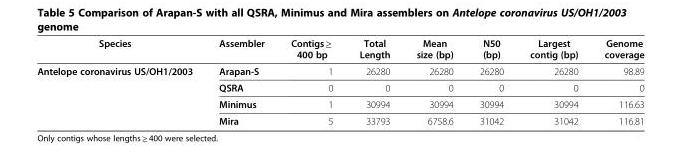table: (36, 36, 643, 126)
table column: (36, 36, 205, 126), (516, 36, 590, 126), (205, 36, 277, 126), (277, 36, 345, 126), (402, 36, 465, 126), (345, 36, 402, 126), (590, 36, 643, 126), (465, 36, 516, 126)
table column header: (36, 36, 643, 62)
table row: (36, 36, 643, 62), (36, 62, 643, 79), (36, 95, 643, 112), (36, 79, 643, 95), (36, 112, 643, 126)
table spanning cell: (36, 62, 205, 126)
